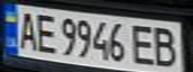4: (90, 18, 112, 61)
6: (106, 20, 130, 63)
9: (54, 15, 78, 56), (72, 16, 93, 58)
A: (12, 8, 42, 51)
B: (151, 24, 184, 69)
E: (127, 21, 160, 66), (33, 10, 60, 54)
